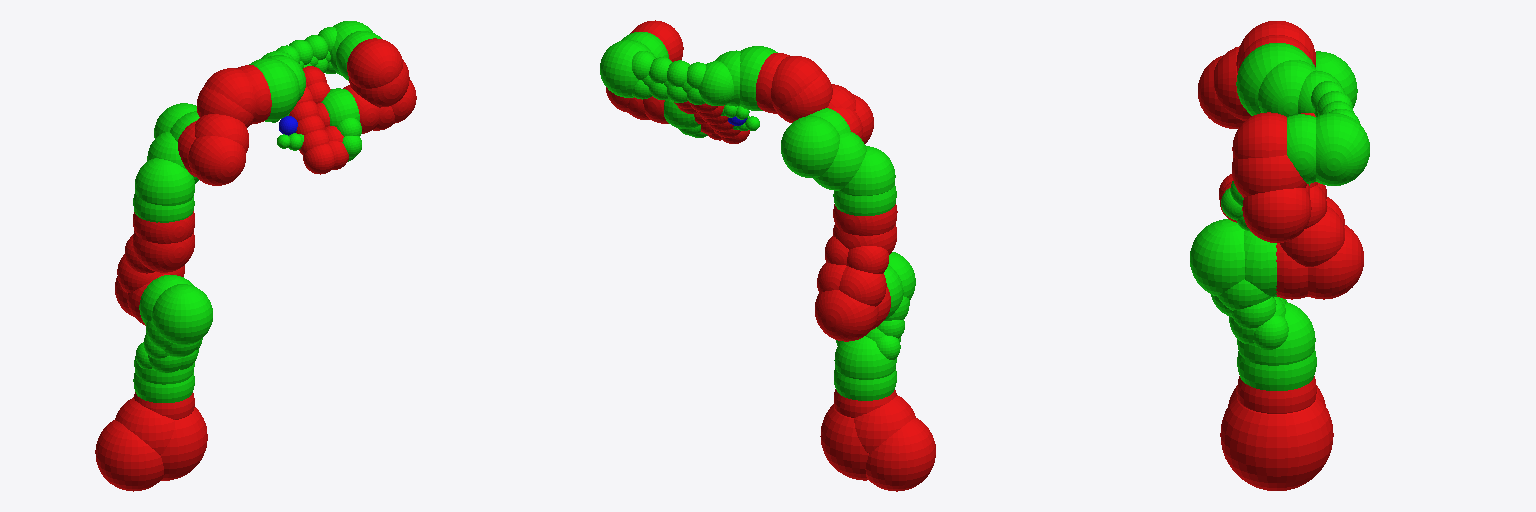
robot.urdf — panda:
<?xml version="1.0" encoding="utf-8"?>
<!-- =================================================================================== -->
<!-- |    This document was autogenerated by xacro from mug_panda_arm_hand_fingers_fixed.urdf.xacro | -->
<!-- |    EDITING THIS FILE BY HAND IS NOT RECOMMENDED                                 | -->
<!-- =================================================================================== -->
<robot name="panda">
  <material name="redtran">
    <color rgba=".9 .1 .1 0.3"/>
  </material>
  <material name="greentran">
    <color rgba=".1 .9 .1 0.3"/>
  </material>
  <material name="bluetran">
    <color rgba=".1 .1 .9 0.3"/>
  </material>
  <link name="panda_link0">
    <visual>
      <geometry>
        <mesh filename="package://franka_description/meshes/visual/link0.dae"/>
      </geometry>
    </visual>
    <collision>
      <geometry>
        <mesh filename="package://franka_description/meshes/collision/link0.stl"/>
      </geometry>
    </collision>
    <visual>
      <origin xyz="0 0 .117"/>
      <geometry>
        <sphere radius="0.06"/>
      </geometry>
      <material name="redtran"/>
    </visual>
    <visual>
      <origin xyz="0 0 .042"/>
      <geometry>
        <sphere radius="0.085"/>
      </geometry>
      <material name="redtran"/>
    </visual>
    <visual>
      <origin xyz="-.029 0 .061"/>
      <geometry>
        <sphere radius="0.075"/>
      </geometry>
      <material name="redtran"/>
    </visual>
    <visual>
      <origin xyz="-.068 0 .024"/>
      <geometry>
        <sphere radius="0.075"/>
      </geometry>
      <material name="redtran"/>
    </visual>
  </link>
  <link name="panda_link1">
    <visual>
      <geometry>
        <mesh filename="package://franka_description/meshes/visual/link1.dae"/>
      </geometry>
    </visual>
    <collision>
      <geometry>
        <mesh filename="package://franka_description/meshes/collision/link1.stl"/>
      </geometry>
    </collision>
    <visual>
      <origin xyz="0 -.071 0"/>
      <geometry>
        <sphere radius="0.06"/>
      </geometry>
      <material name="greentran"/>
    </visual>
    <visual>
      <origin xyz="0 -.024 0"/>
      <geometry>
        <sphere radius="0.061"/>
      </geometry>
      <material name="greentran"/>
    </visual>
    <visual>
      <origin xyz="0 -.001 -.134"/>
      <geometry>
        <sphere radius="0.059"/>
      </geometry>
      <material name="greentran"/>
    </visual>
    <visual>
      <origin xyz="0 0 -.17"/>
      <geometry>
        <sphere radius="0.06"/>
      </geometry>
      <material name="greentran"/>
    </visual>
    <visual>
      <origin xyz=".015 -.048 -.032"/>
      <geometry>
        <sphere radius="0.047"/>
      </geometry>
      <material name="greentran"/>
    </visual>
    <visual>
      <origin xyz="-.015 -.048 -.032"/>
      <geometry>
        <sphere radius="0.047"/>
      </geometry>
      <material name="greentran"/>
    </visual>
    <visual>
      <origin xyz="0 -.054 -.047"/>
      <geometry>
        <sphere radius="0.047"/>
      </geometry>
      <material name="greentran"/>
    </visual>
    <visual>
      <origin xyz=".026 -.035 -.069"/>
      <geometry>
        <sphere radius="0.035"/>
      </geometry>
      <material name="greentran"/>
    </visual>
    <visual>
      <origin xyz=".036 -.011 -.103"/>
      <geometry>
        <sphere radius="0.03"/>
      </geometry>
      <material name="greentran"/>
    </visual>
    <visual>
      <origin xyz="-.026 -.035 -.069"/>
      <geometry>
        <sphere radius="0.035"/>
      </geometry>
      <material name="greentran"/>
    </visual>
    <visual>
      <origin xyz="-.036 -.011 -.103"/>
      <geometry>
        <sphere radius="0.03"/>
      </geometry>
      <material name="greentran"/>
    </visual>
    <visual>
      <origin xyz=".011 -.028 -.093"/>
      <geometry>
        <sphere radius="0.044"/>
      </geometry>
      <material name="greentran"/>
    </visual>
    <visual>
      <origin xyz="-.011 -.028 -.093"/>
      <geometry>
        <sphere radius="0.044"/>
      </geometry>
      <material name="greentran"/>
    </visual>
  </link>
  <joint name="panda_joint1" type="revolute">
    <safety_controller k_position="100.0" k_velocity="40.0" soft_lower_limit="-2.8973" soft_upper_limit="2.8973"/>
    <origin rpy="0 0 0" xyz="0 0 0.333"/>
    <parent link="panda_link0"/>
    <child link="panda_link1"/>
    <axis xyz="0 0 1"/>
    <limit effort="87" lower="-2.8973" upper="2.8973" velocity="2.1750"/>
  </joint>
  <link name="panda_link2">
    <visual>
      <geometry>
        <mesh filename="package://franka_description/meshes/visual/link2.dae"/>
      </geometry>
    </visual>
    <collision>
      <geometry>
        <mesh filename="package://franka_description/meshes/collision/link2.stl"/>
      </geometry>
    </collision>
    <visual>
      <origin xyz="0 -.128 .001"/>
      <geometry>
        <sphere radius="0.061"/>
      </geometry>
      <material name="redtran"/>
    </visual>
    <visual>
      <origin xyz="0 0 .023"/>
      <geometry>
        <sphere radius="0.061"/>
      </geometry>
      <material name="redtran"/>
    </visual>
    <visual>
      <origin xyz="-.016 -.045 .051"/>
      <geometry>
        <sphere radius="0.052"/>
      </geometry>
      <material name="redtran"/>
    </visual>
    <visual>
      <origin xyz=".021 -.097 .032"/>
      <geometry>
        <sphere radius="0.043"/>
      </geometry>
      <material name="redtran"/>
    </visual>
    <visual>
      <origin xyz="0 0 .07"/>
      <geometry>
        <sphere radius="0.061"/>
      </geometry>
      <material name="redtran"/>
    </visual>
    <visual>
      <origin xyz="0 -.173 0"/>
      <geometry>
        <sphere radius="0.061"/>
      </geometry>
      <material name="redtran"/>
    </visual>
    <visual>
      <origin xyz=".016 -.045 .051"/>
      <geometry>
        <sphere radius="0.052"/>
      </geometry>
      <material name="redtran"/>
    </visual>
    <visual>
      <origin xyz="-.021 -.097 .032"/>
      <geometry>
        <sphere radius="0.043"/>
      </geometry>
      <material name="redtran"/>
    </visual>
  </link>
  <joint name="panda_joint2" type="revolute">
    <safety_controller k_position="100.0" k_velocity="40.0" soft_lower_limit="-1.7628" soft_upper_limit="1.7628"/>
    <origin rpy="-1.57079632679 0 0" xyz="0 0 0"/>
    <parent link="panda_link1"/>
    <child link="panda_link2"/>
    <axis xyz="0 0 1"/>
    <limit effort="87" lower="-1.7628" upper="1.7628" velocity="2.1750"/>
  </joint>
  <link name="panda_link3">
    <visual>
      <geometry>
        <mesh filename="package://franka_description/meshes/visual/link3.dae"/>
      </geometry>
    </visual>
    <collision>
      <geometry>
        <mesh filename="package://franka_description/meshes/collision/link3.stl"/>
      </geometry>
    </collision>
    <visual>
      <origin xyz=".045 .026 -.032"/>
      <geometry>
        <sphere radius="0.059"/>
      </geometry>
      <material name="greentran"/>
    </visual>
    <visual>
      <origin xyz=".084 .017 -.001"/>
      <geometry>
        <sphere radius="0.06"/>
      </geometry>
      <material name="greentran"/>
    </visual>
    <visual>
      <origin xyz=".081 .062 0"/>
      <geometry>
        <sphere radius="0.059"/>
      </geometry>
      <material name="greentran"/>
    </visual>
    <visual>
      <origin xyz="0 .001 -.105"/>
      <geometry>
        <sphere radius="0.06"/>
      </geometry>
      <material name="greentran"/>
    </visual>
    <visual>
      <origin xyz=".002 0 -.069"/>
      <geometry>
        <sphere radius="0.059"/>
      </geometry>
      <material name="greentran"/>
    </visual>
  </link>
  <joint name="panda_joint3" type="revolute">
    <safety_controller k_position="100.0" k_velocity="40.0" soft_lower_limit="-2.8973" soft_upper_limit="2.8973"/>
    <origin rpy="1.57079632679 0 0" xyz="0 -0.316 0"/>
    <parent link="panda_link2"/>
    <child link="panda_link3"/>
    <axis xyz="0 0 1"/>
    <limit effort="87" lower="-2.8973" upper="2.8973" velocity="2.1750"/>
  </joint>
  <link name="panda_link4">
    <visual>
      <geometry>
        <mesh filename="package://franka_description/meshes/visual/link4.dae"/>
      </geometry>
    </visual>
    <collision>
      <geometry>
        <mesh filename="package://franka_description/meshes/collision/link4.stl"/>
      </geometry>
    </collision>
    <visual>
      <origin xyz="0 0 .062"/>
      <geometry>
        <sphere radius="0.057"/>
      </geometry>
      <material name="redtran"/>
    </visual>
    <visual>
      <origin xyz="0 0 .018"/>
      <geometry>
        <sphere radius="0.059"/>
      </geometry>
      <material name="redtran"/>
    </visual>
    <visual>
      <origin xyz="-.022 .019 .04"/>
      <geometry>
        <sphere radius="0.058"/>
      </geometry>
      <material name="redtran"/>
    </visual>
    <visual>
      <origin xyz="-.082 .111 0"/>
      <geometry>
        <sphere radius="0.058"/>
      </geometry>
      <material name="redtran"/>
    </visual>
    <visual>
      <origin xyz="-.084 .069 0"/>
      <geometry>
        <sphere radius="0.059"/>
      </geometry>
      <material name="redtran"/>
    </visual>
    <visual>
      <origin xyz="-.071 .057 .002"/>
      <geometry>
        <sphere radius="0.059"/>
      </geometry>
      <material name="redtran"/>
    </visual>
  </link>
  <joint name="panda_joint4" type="revolute">
    <safety_controller k_position="100.0" k_velocity="40.0" soft_lower_limit="-3.0718" soft_upper_limit="-0.0698"/>
    <origin rpy="1.57079632679 0 0" xyz="0.0825 0 0"/>
    <parent link="panda_link3"/>
    <child link="panda_link4"/>
    <axis xyz="0 0 1"/>
    <limit effort="87" lower="-3.0718" upper="-0.0698" velocity="2.1750"/>
  </joint>
  <link name="panda_link5">
    <visual>
      <geometry>
        <mesh filename="package://franka_description/meshes/visual/link5.dae"/>
      </geometry>
    </visual>
    <collision>
      <geometry>
        <mesh filename="package://franka_description/meshes/collision/link5.stl"/>
      </geometry>
    </collision>
    <visual>
      <origin xyz="0 .021 -.197"/>
      <geometry>
        <sphere radius="0.053"/>
      </geometry>
      <material name="greentran"/>
    </visual>
    <visual>
      <origin xyz="-.018 .096 -.036"/>
      <geometry>
        <sphere radius="0.03"/>
      </geometry>
      <material name="greentran"/>
    </visual>
    <visual>
      <origin xyz="0 .085 0"/>
      <geometry>
        <sphere radius="0.055"/>
      </geometry>
      <material name="greentran"/>
    </visual>
    <visual>
      <origin xyz=".018 .096 -.036"/>
      <geometry>
        <sphere radius="0.03"/>
      </geometry>
      <material name="greentran"/>
    </visual>
    <visual>
      <origin xyz="0 .037 0"/>
      <geometry>
        <sphere radius="0.053"/>
      </geometry>
      <material name="greentran"/>
    </visual>
    <visual>
      <origin xyz="0 .001 -.233"/>
      <geometry>
        <sphere radius="0.062"/>
      </geometry>
      <material name="greentran"/>
    </visual>
    <visual>
      <origin xyz="0 .059 -.178"/>
      <geometry>
        <sphere radius="0.043"/>
      </geometry>
      <material name="greentran"/>
    </visual>
    <visual>
      <origin xyz=".015 .077 -.147"/>
      <geometry>
        <sphere radius="0.027"/>
      </geometry>
      <material name="greentran"/>
    </visual>
    <visual>
      <origin xyz="-.015 .091 -.076"/>
      <geometry>
        <sphere radius="0.027"/>
      </geometry>
      <material name="greentran"/>
    </visual>
    <visual>
      <origin xyz="0 .094 -.053"/>
      <geometry>
        <sphere radius="0.024"/>
      </geometry>
      <material name="greentran"/>
    </visual>
    <visual>
      <origin xyz=".015 .087 -.112"/>
      <geometry>
        <sphere radius="0.027"/>
      </geometry>
      <material name="greentran"/>
    </visual>
    <visual>
      <origin xyz="-.015 .087 -.112"/>
      <geometry>
        <sphere radius="0.027"/>
      </geometry>
      <material name="greentran"/>
    </visual>
    <visual>
      <origin xyz=".015 .091 -.076"/>
      <geometry>
        <sphere radius="0.027"/>
      </geometry>
      <material name="greentran"/>
    </visual>
    <visual>
      <origin xyz="-.015 .077 -.147"/>
      <geometry>
        <sphere radius="0.027"/>
      </geometry>
      <material name="greentran"/>
    </visual>
    <visual>
      <origin xyz="0 .081 -.132"/>
      <geometry>
        <sphere radius="0.024"/>
      </geometry>
      <material name="greentran"/>
    </visual>
    <visual>
      <origin xyz="0 .087 -.092"/>
      <geometry>
        <sphere radius="0.022"/>
      </geometry>
      <material name="greentran"/>
    </visual>
  </link>
  <joint name="panda_joint5" type="revolute">
    <safety_controller k_position="100.0" k_velocity="40.0" soft_lower_limit="-2.8973" soft_upper_limit="2.8973"/>
    <origin rpy="-1.57079632679 0 0" xyz="-0.0825 0.384 0"/>
    <parent link="panda_link4"/>
    <child link="panda_link5"/>
    <axis xyz="0 0 1"/>
    <limit effort="12" lower="-2.8973" upper="2.8973" velocity="2.6100"/>
  </joint>
  <link name="panda_link6">
    <visual>
      <geometry>
        <mesh filename="package://franka_description/meshes/visual/link6.dae"/>
      </geometry>
    </visual>
    <collision>
      <geometry>
        <mesh filename="package://franka_description/meshes/collision/link6.stl"/>
      </geometry>
    </collision>
    <visual>
      <origin xyz=".087 -.03 .0"/>
      <geometry>
        <sphere radius="0.05"/>
      </geometry>
      <material name="redtran"/>
    </visual>
    <visual>
      <origin xyz=".028 .011 .009"/>
      <geometry>
        <sphere radius="0.059"/>
      </geometry>
      <material name="redtran"/>
    </visual>
    <visual>
      <origin xyz="-.001 0 .012"/>
      <geometry>
        <sphere radius="0.055"/>
      </geometry>
      <material name="redtran"/>
    </visual>
    <visual>
      <origin xyz=".079 .04 0"/>
      <geometry>
        <sphere radius="0.052"/>
      </geometry>
      <material name="redtran"/>
    </visual>
    <visual>
      <origin xyz=".09 .01 .0"/>
      <geometry>
        <sphere radius="0.049"/>
      </geometry>
      <material name="redtran"/>
    </visual>
  </link>
  <joint name="panda_joint6" type="revolute">
    <safety_controller k_position="100.0" k_velocity="40.0" soft_lower_limit="-0.0175" soft_upper_limit="3.7525"/>
    <origin rpy="1.57079632679 0 0" xyz="0 0 0"/>
    <parent link="panda_link5"/>
    <child link="panda_link6"/>
    <axis xyz="0 0 1"/>
    <limit effort="12" lower="-0.0175" upper="3.7525" velocity="2.6100"/>
  </joint>
  <link name="panda_link7">
    <visual>
      <geometry>
        <mesh filename="package://franka_description/meshes/visual/link7.dae"/>
      </geometry>
    </visual>
    <collision>
      <geometry>
        <mesh filename="package://franka_description/meshes/collision/link7.stl"/>
      </geometry>
    </collision>
    <visual>
      <origin xyz=".0 .0 .075"/>
      <geometry>
        <sphere radius="0.05"/>
      </geometry>
      <material name="greentran"/>
    </visual>
    <visual>
      <origin xyz=".016 .042 .079"/>
      <geometry>
        <sphere radius="0.028"/>
      </geometry>
      <material name="greentran"/>
    </visual>
    <visual>
      <origin xyz=".041 .012 .079"/>
      <geometry>
        <sphere radius="0.028"/>
      </geometry>
      <material name="greentran"/>
    </visual>
    <visual>
      <origin xyz=".04 .058 .085"/>
      <geometry>
        <sphere radius="0.026"/>
      </geometry>
      <material name="greentran"/>
    </visual>
    <visual>
      <origin xyz=".058 .037 .083"/>
      <geometry>
        <sphere radius="0.026"/>
      </geometry>
      <material name="greentran"/>
    </visual>
  </link>
  <joint name="panda_joint7" type="revolute">
    <safety_controller k_position="100.0" k_velocity="40.0" soft_lower_limit="-2.8973" soft_upper_limit="2.8973"/>
    <origin rpy="1.57079632679 0 0" xyz="0.088 0 0"/>
    <parent link="panda_link6"/>
    <child link="panda_link7"/>
    <axis xyz="0 0 1"/>
    <limit effort="12" lower="-2.8973" upper="2.8973" velocity="2.6100"/>
  </joint>
  <link name="panda_link8"/>
  <joint name="panda_joint8" type="fixed">
    <origin rpy="0 0 0" xyz="0 0 0.107"/>
    <parent link="panda_link7"/>
    <child link="panda_link8"/>
    <axis xyz="0 0 0"/>
  </joint>
  <joint name="panda_hand_joint" type="fixed">
    <parent link="panda_link8"/>
    <child link="panda_hand"/>
    <origin rpy="0 0 -0.785398163397" xyz="0 0 0"/>
  </joint>
  <link name="panda_hand">
    <visual>
      <geometry>
        <mesh filename="package://franka_description/meshes/visual/hand.dae"/>
      </geometry>
    </visual>
    <visual>
      <origin xyz="0 -.077 .041"/>
      <geometry>
        <sphere radius="0.033"/>
      </geometry>
      <material name="redtran"/>
    </visual>
    <visual>
      <origin xyz="0 .075 .012"/>
      <geometry>
        <sphere radius="0.033"/>
      </geometry>
      <material name="redtran"/>
    </visual>
    <visual>
      <origin xyz="0 .077 .041"/>
      <geometry>
        <sphere radius="0.033"/>
      </geometry>
      <material name="redtran"/>
    </visual>
    <visual>
      <origin xyz="0 -.05 .002"/>
      <geometry>
        <sphere radius="0.033"/>
      </geometry>
      <material name="redtran"/>
    </visual>
    <visual>
      <origin xyz="0 -.046 .041"/>
      <geometry>
        <sphere radius="0.033"/>
      </geometry>
      <material name="redtran"/>
    </visual>
    <visual>
      <origin xyz="0 .046 .041"/>
      <geometry>
        <sphere radius="0.033"/>
      </geometry>
      <material name="redtran"/>
    </visual>
    <visual>
      <origin xyz="0 .016 .041"/>
      <geometry>
        <sphere radius="0.033"/>
      </geometry>
      <material name="redtran"/>
    </visual>
    <visual>
      <origin xyz="0 -.016 .041"/>
      <geometry>
        <sphere radius="0.033"/>
      </geometry>
      <material name="redtran"/>
    </visual>
    <visual>
      <origin xyz="0 -.075 .002"/>
      <geometry>
        <sphere radius="0.033"/>
      </geometry>
      <material name="redtran"/>
    </visual>
    <visual>
      <origin xyz="0 .051 .003"/>
      <geometry>
        <sphere radius="0.033"/>
      </geometry>
      <material name="redtran"/>
    </visual>
    <visual>
      <origin xyz="0 0 .003"/>
      <geometry>
        <sphere radius="0.033"/>
      </geometry>
      <material name="redtran"/>
    </visual>
  </link>
  <link name="panda_leftfinger">
    <visual>
      <geometry>
        <mesh filename="package://franka_description/meshes/visual/finger.dae"/>
      </geometry>
    </visual>
    <visual>
      <origin xyz="0 .014 .022"/>
      <geometry>
        <sphere radius="0.017"/>
      </geometry>
      <material name="greentran"/>
    </visual>
    <visual>
      <origin xyz="0 .015 .005"/>
      <geometry>
        <sphere radius="0.018"/>
      </geometry>
      <material name="greentran"/>
    </visual>
    <visual>
      <origin xyz="0 .008 .044"/>
      <geometry>
        <sphere radius="0.014"/>
      </geometry>
      <material name="greentran"/>
    </visual>
  </link>
  <link name="panda_rightfinger">
    <visual>
      <origin rpy="0 0 3.14159265359" xyz="0 0 0"/>
      <geometry>
        <mesh filename="package://franka_description/meshes/visual/finger.dae"/>
      </geometry>
    </visual>
    <visual>
      <origin xyz="0 -.014 .022"/>
      <geometry>
        <sphere radius="0.017"/>
      </geometry>
      <material name="greentran"/>
    </visual>
    <visual>
      <origin xyz="0 -.015 .005"/>
      <geometry>
        <sphere radius="0.018"/>
      </geometry>
      <material name="greentran"/>
    </visual>
    <visual>
      <origin xyz="0 -.008 .044"/>
      <geometry>
        <sphere radius="0.014"/>
      </geometry>
      <material name="greentran"/>
    </visual>
  </link>
  <link name="panda_hand_center">
    <visual>
      <origin xyz="0 0 0"/>
      <geometry>
        <sphere radius="0.02"/>
      </geometry>
      <material name="bluetran"/>
    </visual>
  </link>
  <joint name="panda_finger_joint1" type="fixed">
    <parent link="panda_hand"/>
    <child link="panda_leftfinger"/>
    <origin rpy="0 0 0" xyz="0 0.02 0.0584"/>
  </joint>
  <joint name="panda_finger_joint2" type="fixed">
    <parent link="panda_hand"/>
    <child link="panda_rightfinger"/>
    <origin rpy="0 0 0" xyz="0 -0.02 0.0584"/>
    <mimic joint="panda_finger_joint1"/>
  </joint>
  <joint name="panda_hand_center_joint" type="fixed">
    <parent link="panda_hand"/>
    <child link="panda_hand_center"/>
    <origin rpy="0 0 0" xyz="0 0 0.08"/>
  </joint>
  <joint name="mug_joint" type="floating">
    <parent link="panda_link0"/>
    <child link="mug"/>
    <origin rpy="0 0 0" xyz="0 0 0"/>
  </joint>
  <link name="mug">
    <visual>
      <geometry>
        <mesh filename="package://franka_description/meshes/mug.dae"/>
        <!-- <mesh filename="file://[local-path]/.julia/dev/PBDS/urdf/meshes/mug.dae"/>  -->
        <!--/// means absolute path-->
        <!-- <mesh filename="file://../meshes/mug.dae"/> -->
        <!-- <mesh filename="package://$(find panda_roahm)/worlds/mug.dae"/> -->
      </geometry>
    </visual>
  </link>
  <link name="mug_rim_center"/>
  <joint name="mug_rim_center_joint" type="fixed">
    <parent link="mug"/>
    <child link="mug_rim_center"/>
    <origin rpy="0 0 0" xyz="0 0 0.105"/>
  </joint>
</robot>

--- Render facts (derived) ---
Views: 3 orthographic renders of the robot side by side, from view 1: azimuth 30°, elevation 25°; view 2: azimuth 150°, elevation 25°; view 3: azimuth 270°, elevation 25°.
Robot: panda — 15 links, 14 joints (7 revolute, 6 fixed, 1 floating); root link panda_link0; default pose: joints at zero except 1 at the middle of their limits (panda_joint4 = -1.57).
Links seen in each view (by area): view 1: panda_link0, panda_link1, panda_link4, panda_link3, panda_link5, panda_link6, panda_link2, panda_hand, panda_link7; view 2: panda_link0, panda_link5, panda_link2, panda_link3, panda_link1, panda_link4, panda_link6, panda_hand, panda_link7; view 3: panda_link1, panda_link5, panda_link0, panda_link6, panda_link2, panda_link4, panda_link3, panda_link7.
Boxes of the visible links, bbox=[...] form: panda_link0: bbox=[95, 392, 207, 491]; panda_link1: bbox=[133, 275, 212, 402]; panda_link4: bbox=[178, 65, 271, 185]; panda_link3: bbox=[133, 103, 199, 222]; panda_link5: bbox=[249, 21, 381, 121]; panda_link6: bbox=[343, 38, 416, 133]; panda_link2: bbox=[115, 211, 194, 325]; panda_hand: bbox=[289, 66, 348, 174]; panda_link7: bbox=[321, 88, 361, 161]; panda_link0: bbox=[820, 389, 935, 491]; panda_link5: bbox=[600, 32, 777, 110]; panda_link2: bbox=[815, 204, 897, 341]; panda_link3: bbox=[781, 108, 896, 215]; panda_link1: bbox=[834, 252, 915, 400]; panda_link4: bbox=[756, 53, 873, 143]; panda_link6: bbox=[606, 20, 683, 123]; panda_hand: bbox=[674, 101, 749, 143]; panda_link7: bbox=[664, 98, 707, 137]; panda_link1: bbox=[1190, 219, 1316, 390]; panda_link5: bbox=[1236, 43, 1369, 185]; panda_link0: bbox=[1220, 376, 1333, 490]; panda_link6: bbox=[1232, 112, 1311, 242]; panda_link2: bbox=[1276, 182, 1363, 299]; panda_link4: bbox=[1198, 21, 1315, 128]; panda_link3: bbox=[1316, 51, 1357, 107]; panda_link7: bbox=[1221, 181, 1309, 231].
Bounding box of the posed robot: 0.7015 × 0.271 × 0.8445 m (x, y, z).
1 mesh visuals loaded from 11 distinct referenced files (1 Collada DAE); not drawn: 11 (reference not matched to a file when rendering).
